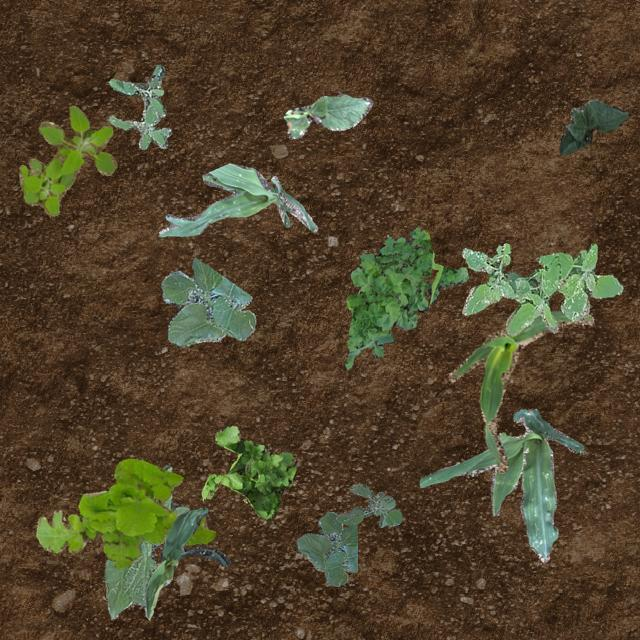crop: (418, 408, 582, 562), (447, 310, 592, 472), (104, 463, 188, 618), (158, 162, 316, 235), (142, 506, 230, 618), (160, 256, 254, 346), (294, 510, 356, 586), (283, 92, 372, 138), (558, 98, 628, 154)
weed: (34, 458, 214, 568), (344, 226, 468, 368), (460, 242, 622, 334), (19, 104, 116, 216), (200, 424, 296, 520), (106, 64, 170, 148), (334, 482, 400, 526)
